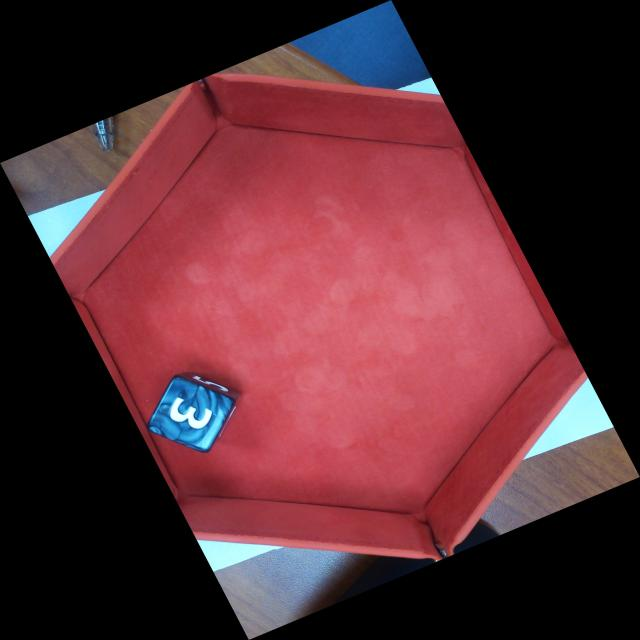dice: (144, 374, 237, 455)
